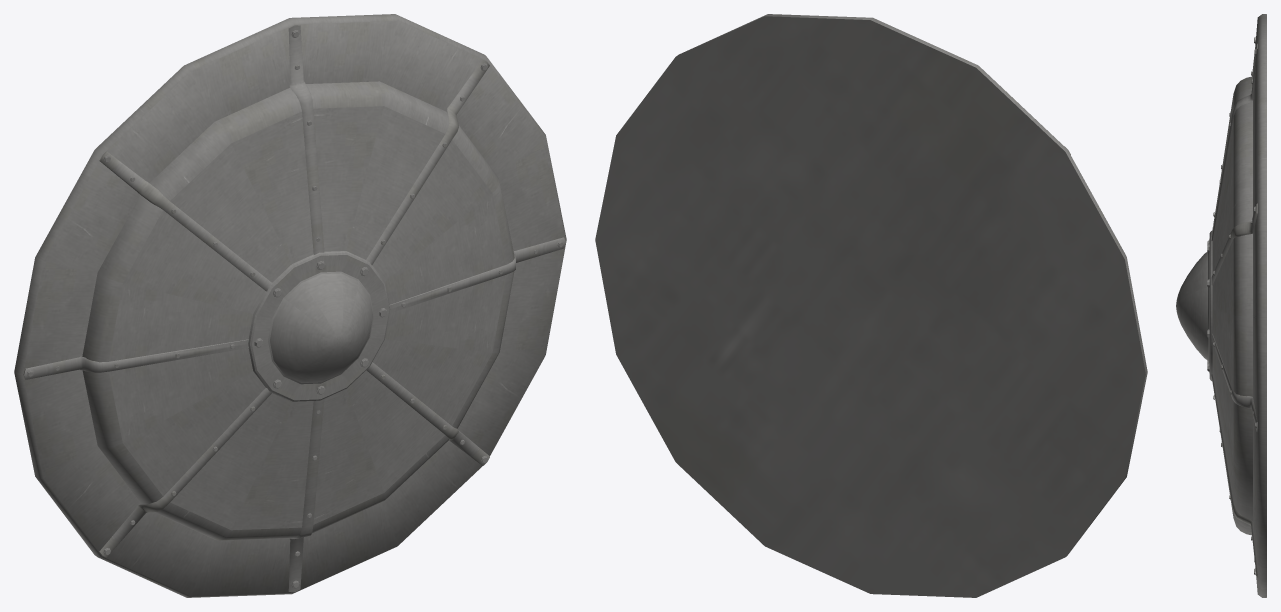
The model's file is SpanishShield.fbx.
The picture shows the model from 3 angles, left to right: view 1: azimuth 30°, elevation 25°; view 2: azimuth 150°, elevation 25°; view 3: azimuth 270°, elevation 25°; orthographic projection. The views are drawn at different scales.
Visible parts, largest first — view 1: SpanishShield; view 2: SpanishShield; view 3: SpanishShield.
Boxes of the visible parts, x1,y1,x2,y2 form: SpanishShield: (14,14,566,597); SpanishShield: (595,14,1147,597); SpanishShield: (1176,14,1266,597).
Bounding box in the file's own units: 33.41 × 33.34 × 5.19.
